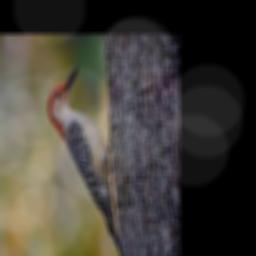Woodpecker: (48, 66, 123, 256)
